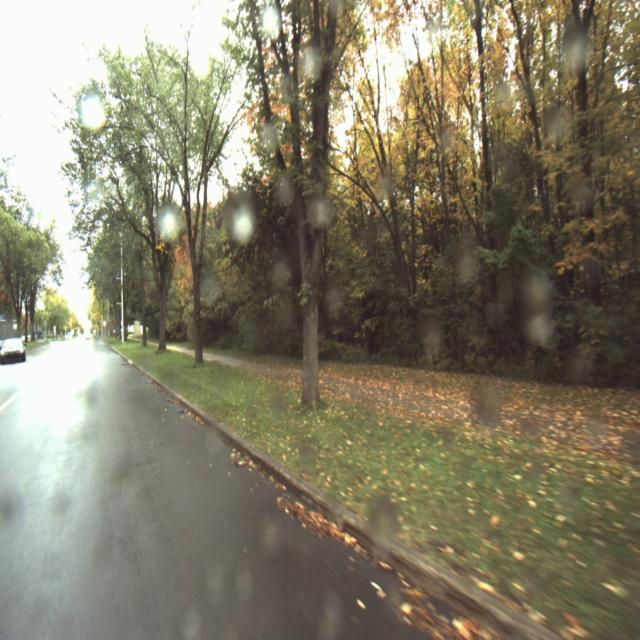car: (1, 338, 26, 367)
